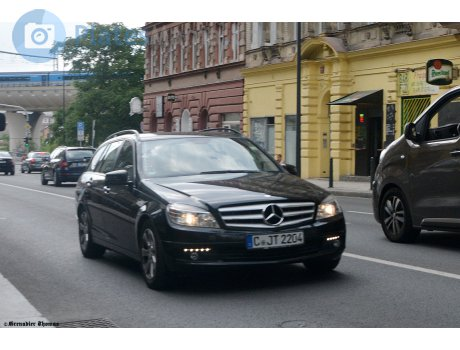License Plates: (254, 234, 300, 243)
